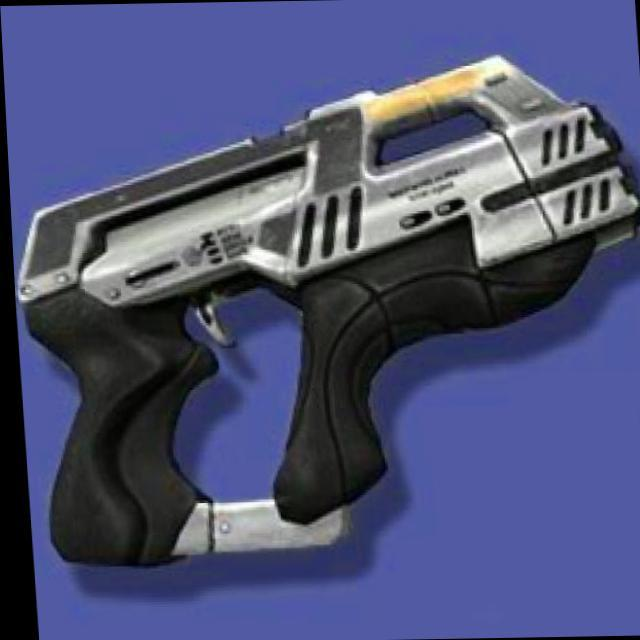weapon: (2, 46, 640, 567)
